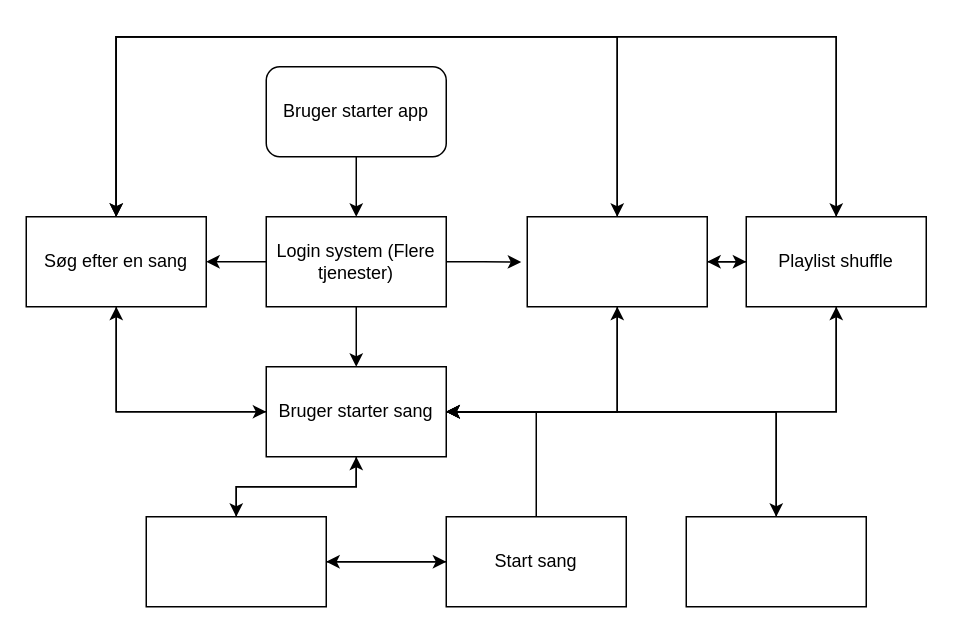
Some shapes in this 953 by 633 pixel diagram are drawn without their labels. The box of each missing label's shape, as (x1, y1, x2, y2) in pixels:
Bruger starter playlist: (526, 215, 707, 307)
Pause sang: (145, 515, 326, 607)
Restart playlist: (685, 515, 866, 607)
